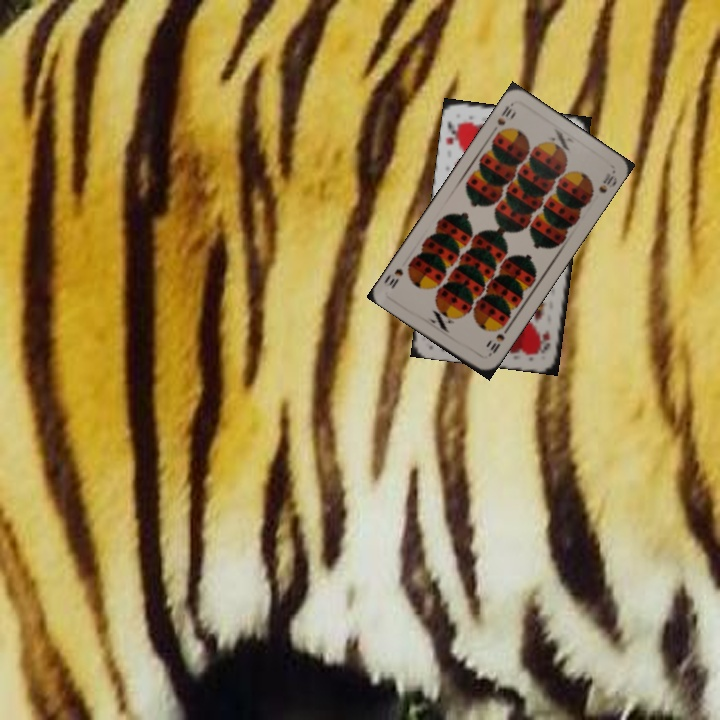HK: (441, 116, 464, 151), (536, 326, 553, 356)
S10: (492, 99, 516, 138), (484, 329, 508, 360)
